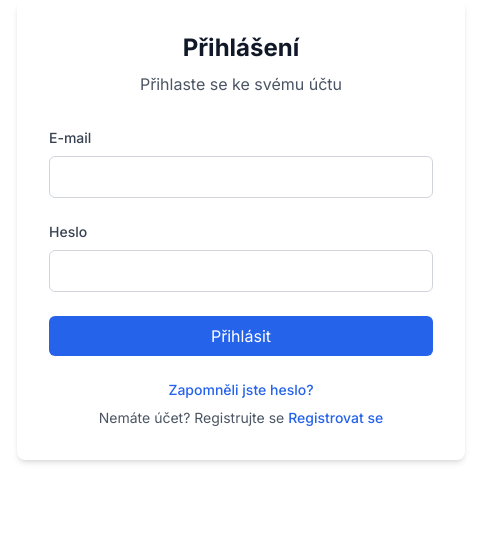
Test case: LoginForm › handles network error
// Fill form
Type "test@example.com" into the field labelled "E-mail".
click(241, 177); type("test@example.com")  # box top-left (49, 156), bottom-right (433, 198)
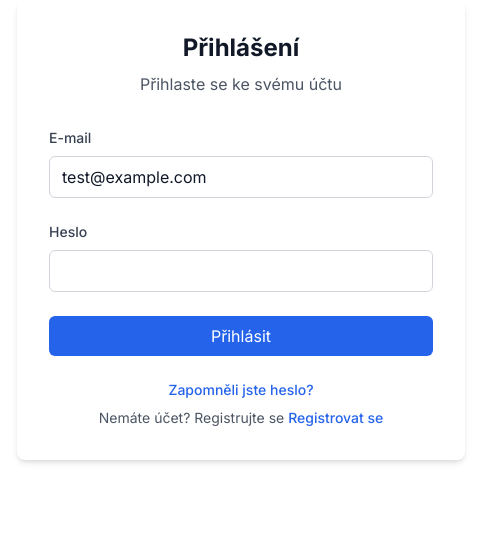
Type "password123" into the password field labelled "Heslo".
click(241, 271); type("password123")  # box top-left (49, 250), bottom-right (433, 292)
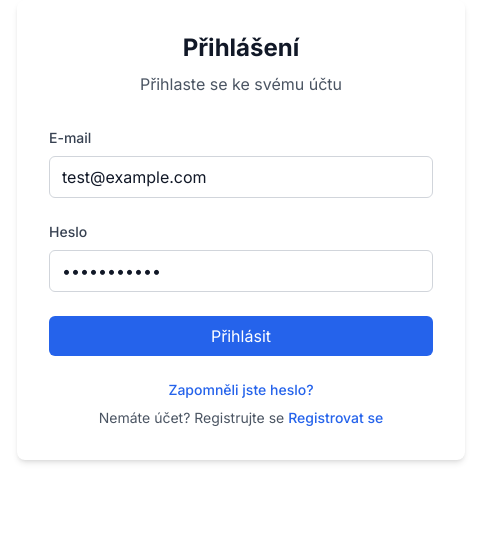
// Submit form
Click the button "Přihlásit".
click(241, 336)  # box top-left (49, 316), bottom-right (433, 356)
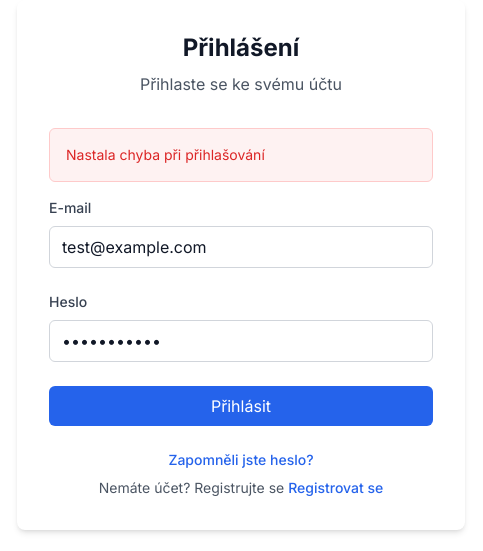
Now the text "Nastala chyba při přihlašování" is shown, box top-left (66, 146), bottom-right (265, 163)
